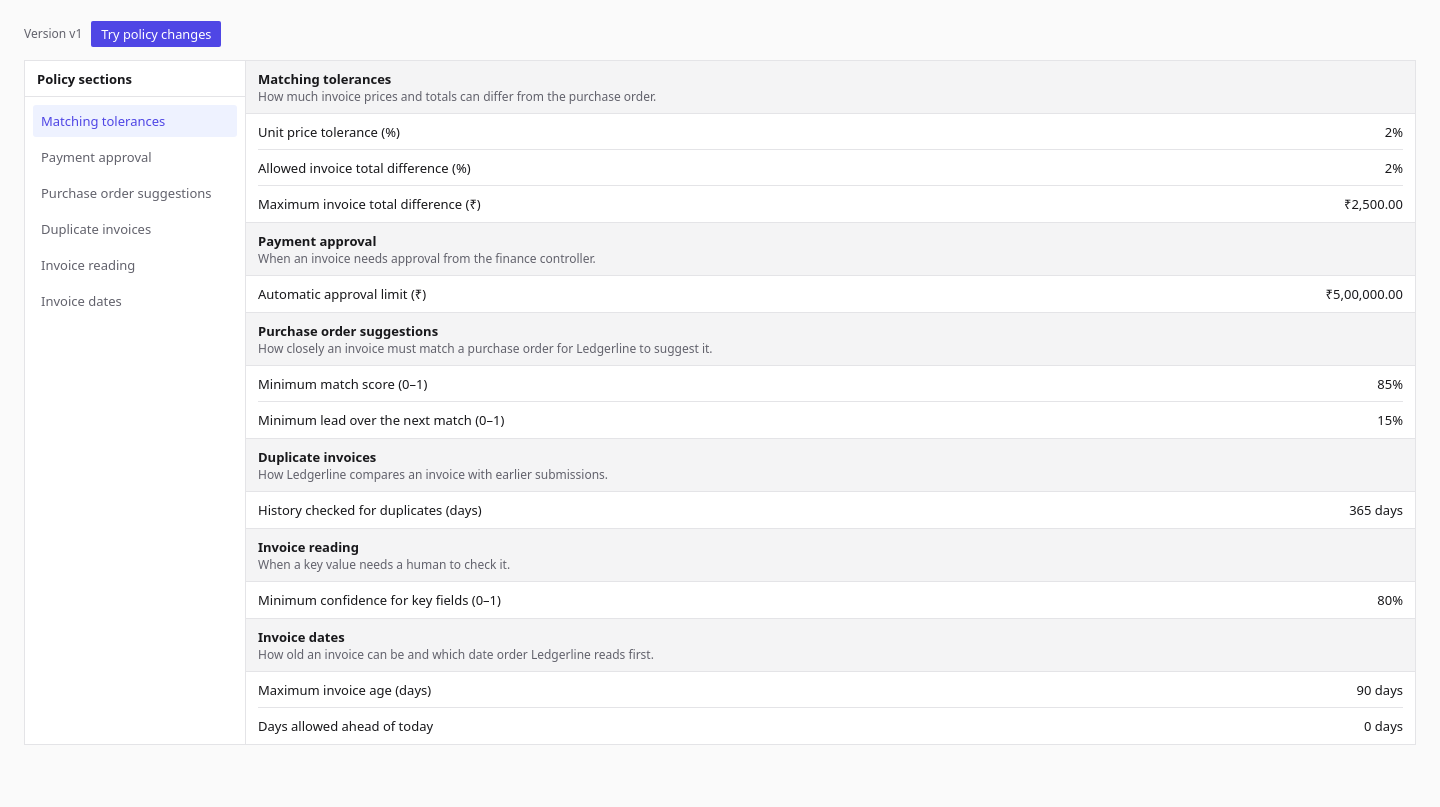
opens the S12 what-if preview from the read-only policy and shows what changed
Expected: the text "Version v1" is shown, [24,26,82,42]
Click the button "Try policy changes". click: x=156, y=34
box: [90,20,222,48]
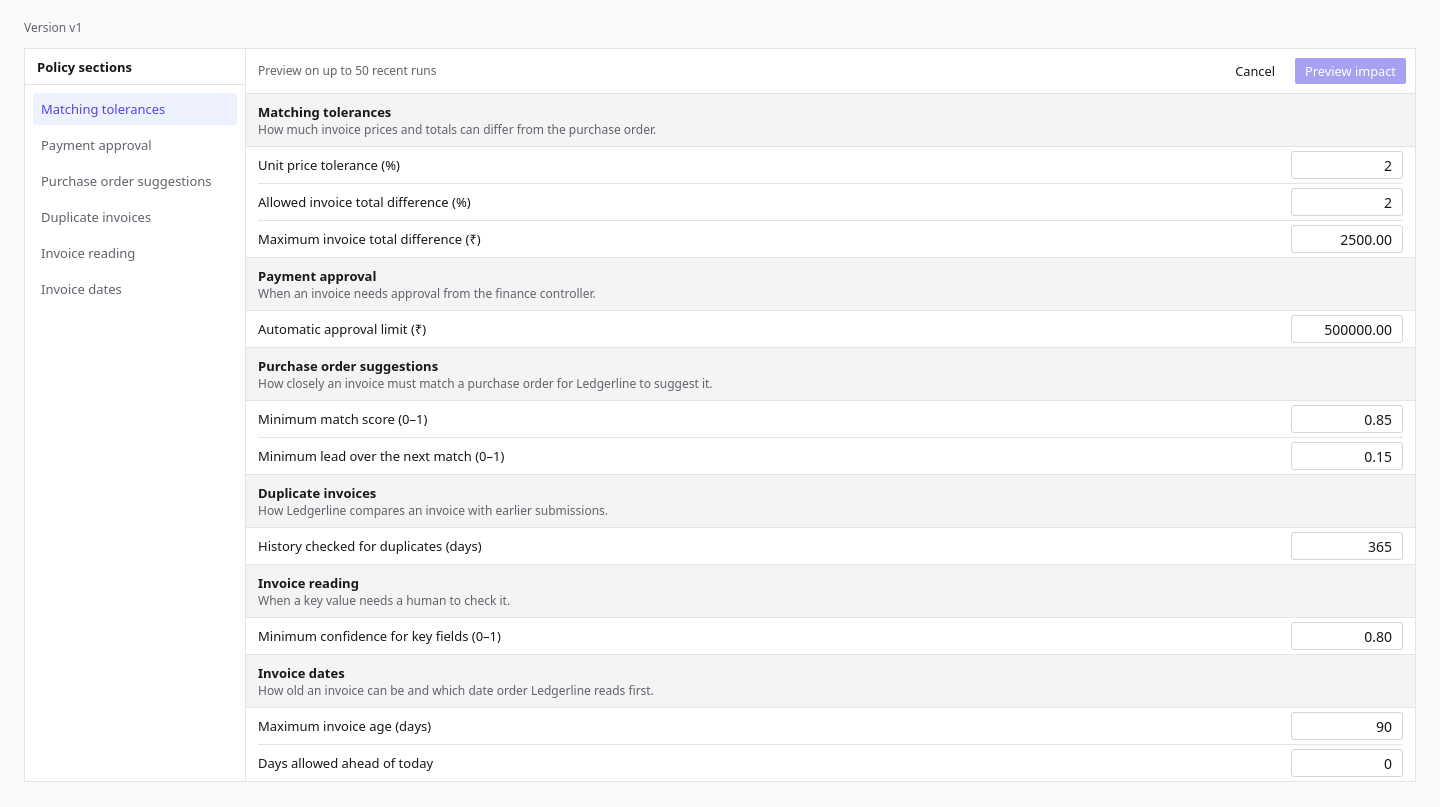
Replace the text in the field labelled "Unit price tolerance (%)" with "10". click: x=1347, y=165
box: [1291,151,1403,179]
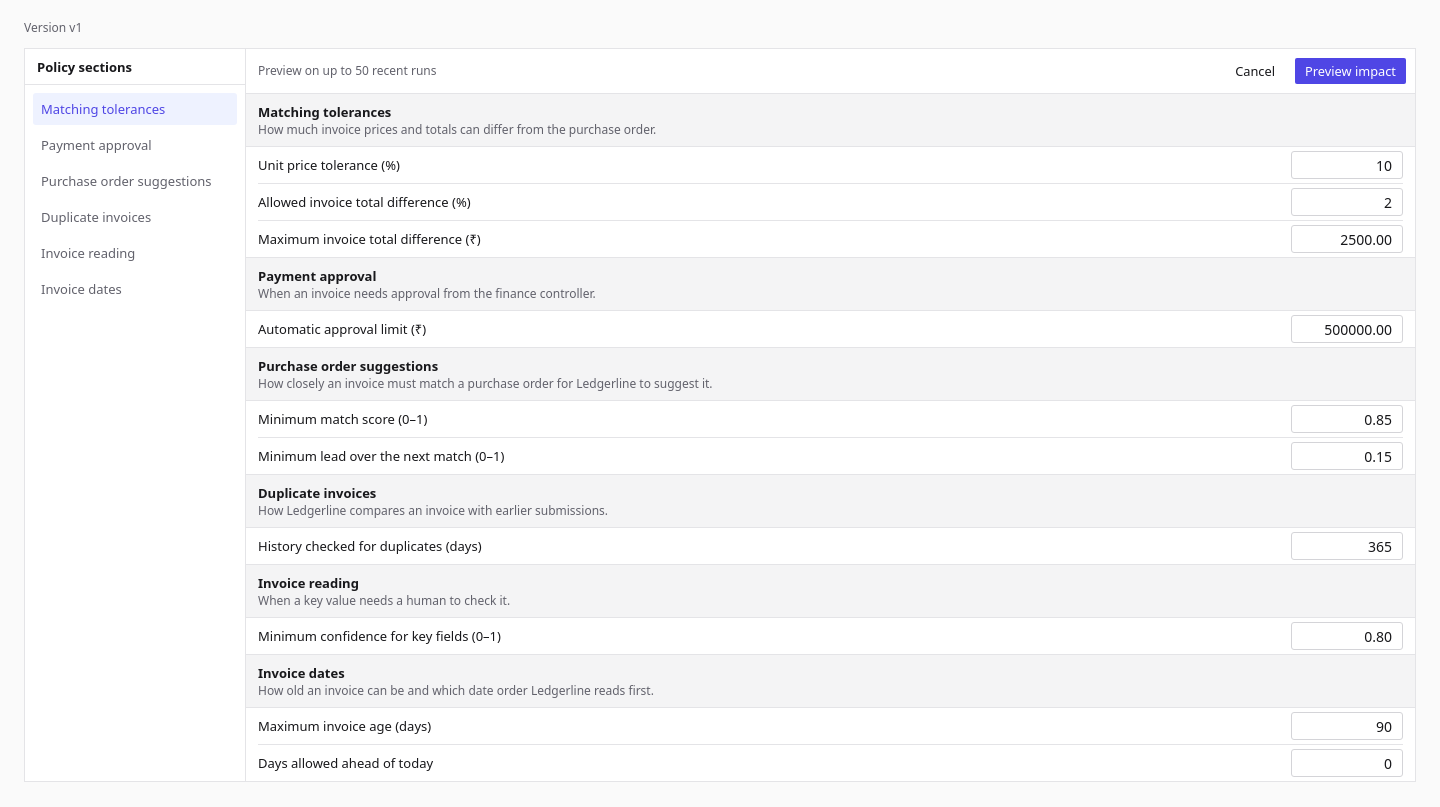
Replace the text in the field labelled "Maximum invoice total difference (₹)" with "5000". click: x=1347, y=239
box: [1291,225,1403,253]
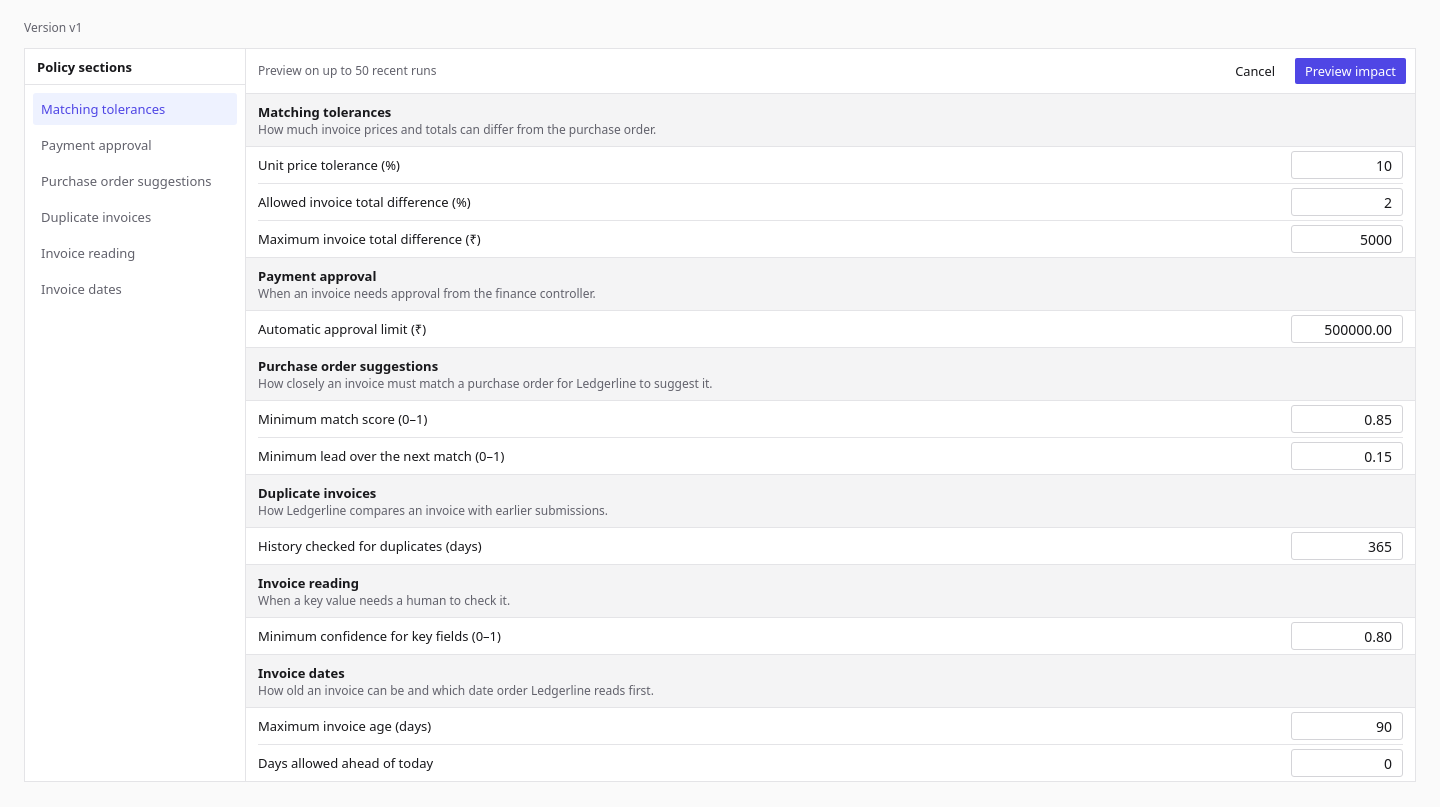
Click the button "Preview impact". click: x=1350, y=71
box: [1294,57,1407,85]
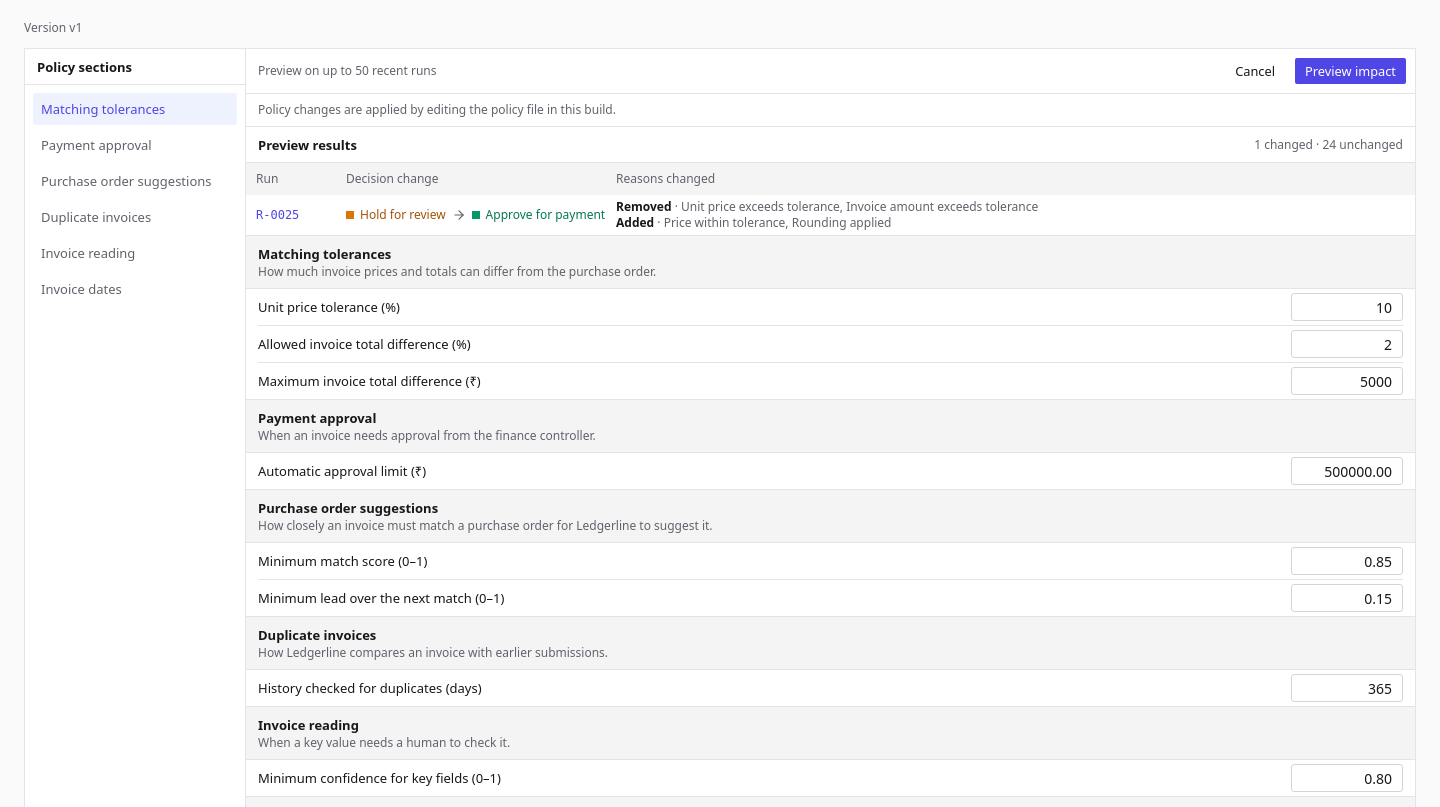
Expected: the element named "Hold → Approve" is shown, [346,207,596,223]
Expected: the text "1 changed · 24 unchanged" is shown, [1254,136,1403,152]
Expected: the text "Unit price exceeds tolerance" is shown, [681,198,1038,215]
